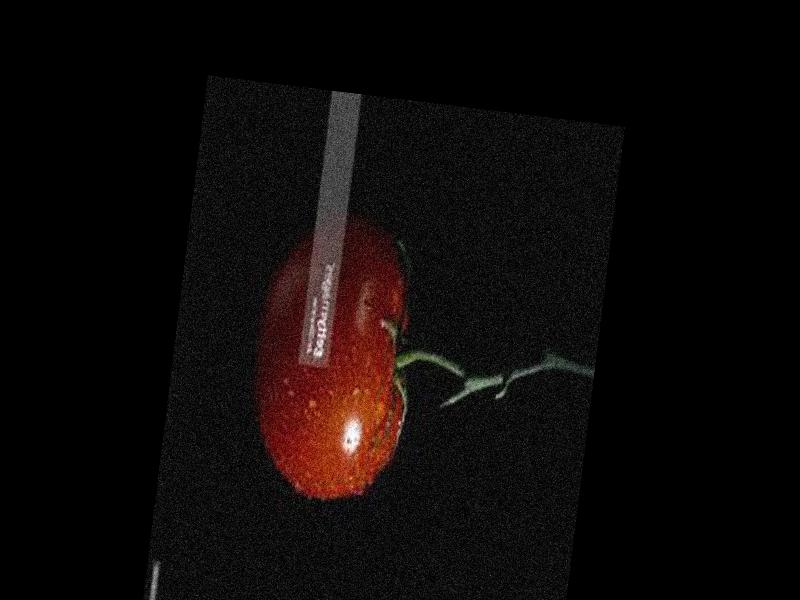Tomato: (245, 217, 423, 506)
